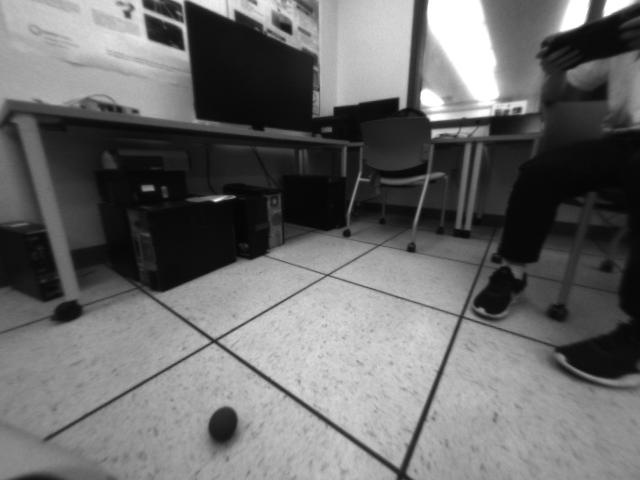dogtoy: (202, 399, 243, 450)
